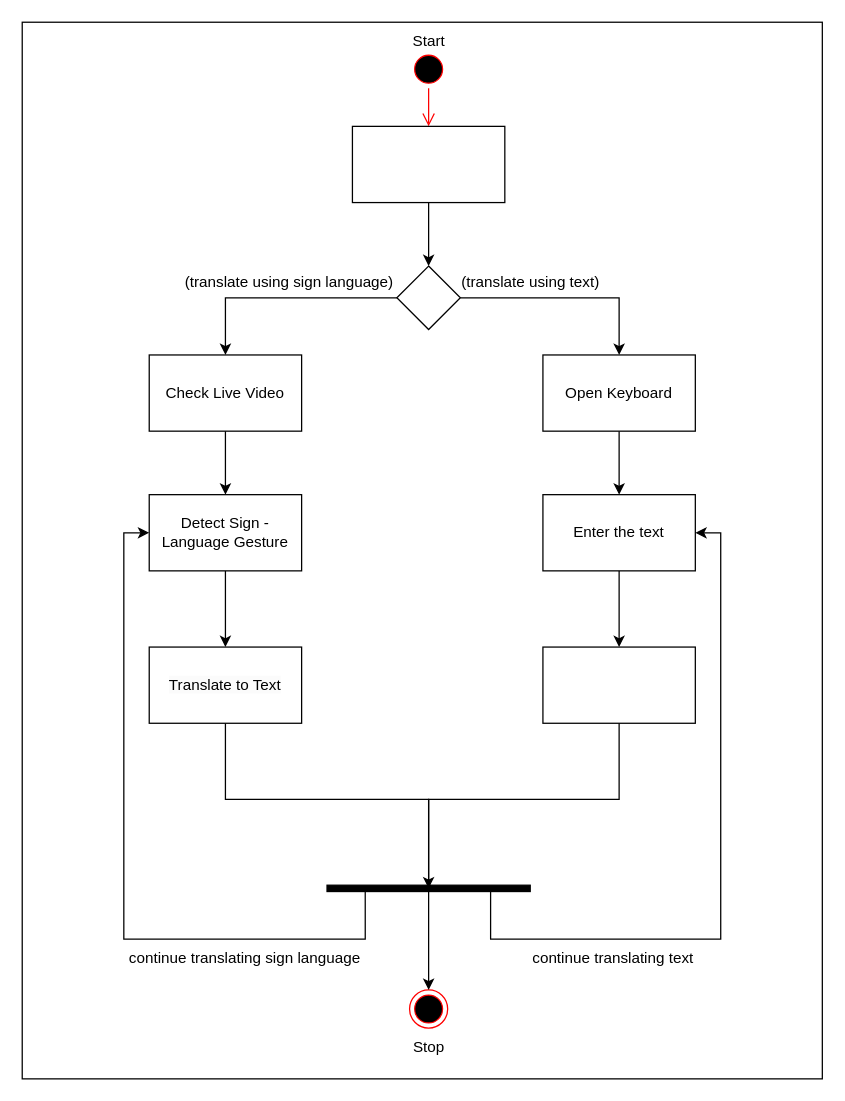
This 845x1101 diagram has some shape labels left out. The shapes that lost their labels are listed below. From the top down, each one's centre as x and y in pixels, then its label:
At [428,164]: "Opens Home Page".
At [618,684]: "Translate to Sign-Language".
